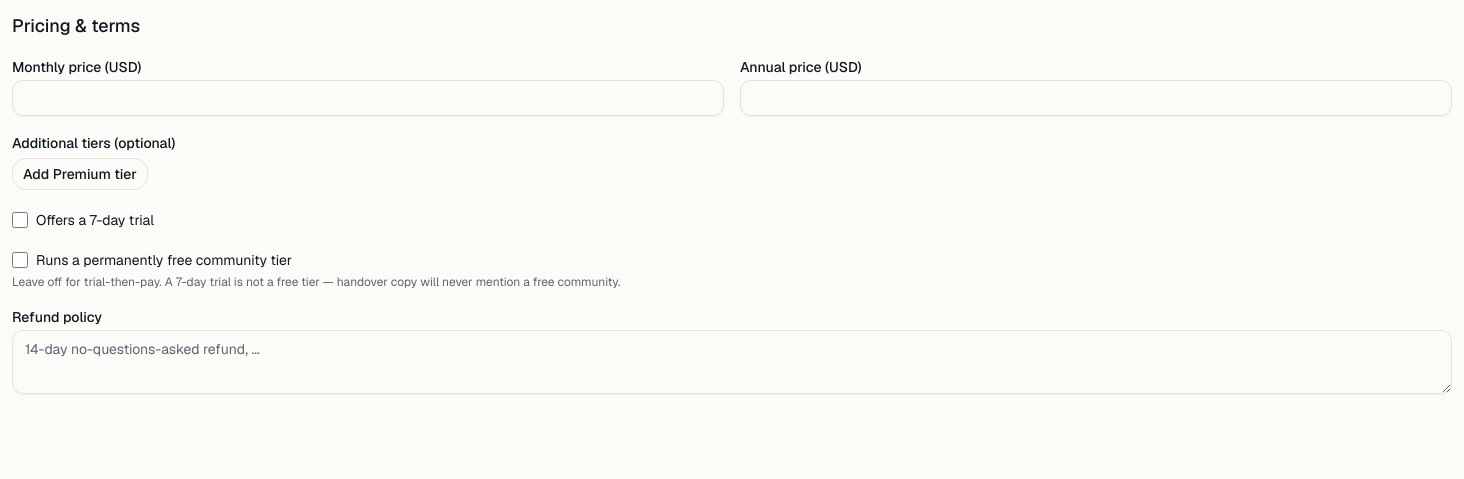
Test: Step3Pricing — additional tiers › clicking 'Add VIP tier' surfaces a second locked row and hides the Add button at the cap of 2
Step 1. Click the button "Add Premium tier" → (80, 174), box [12, 158, 148, 190]
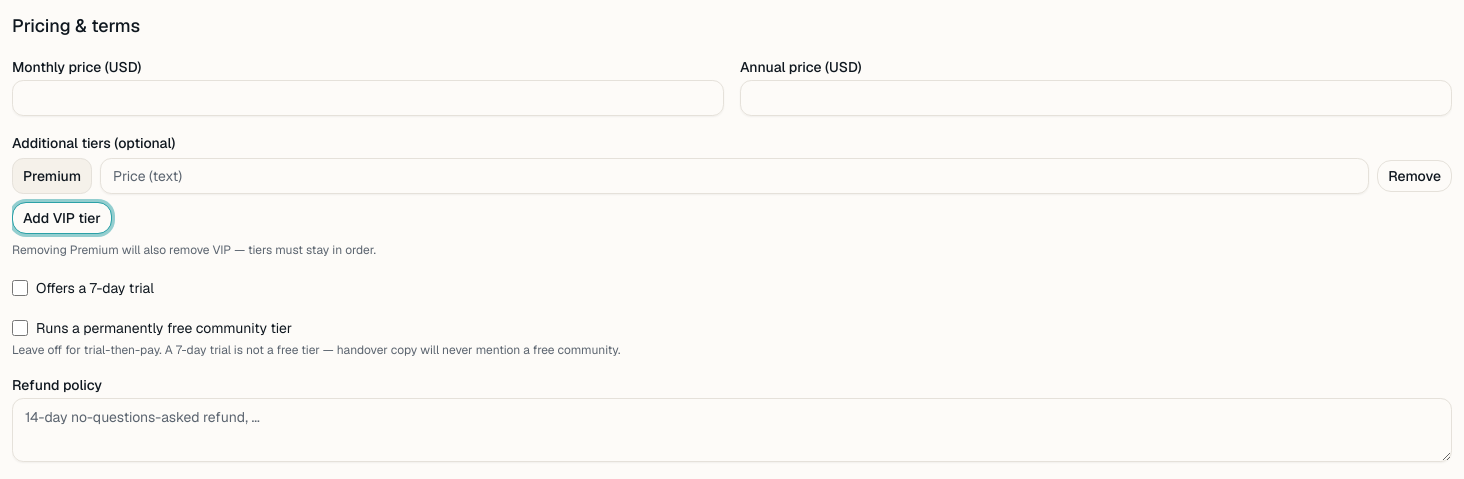
Step 2. Click the button "Add VIP tier" → (62, 218), box [12, 202, 112, 234]
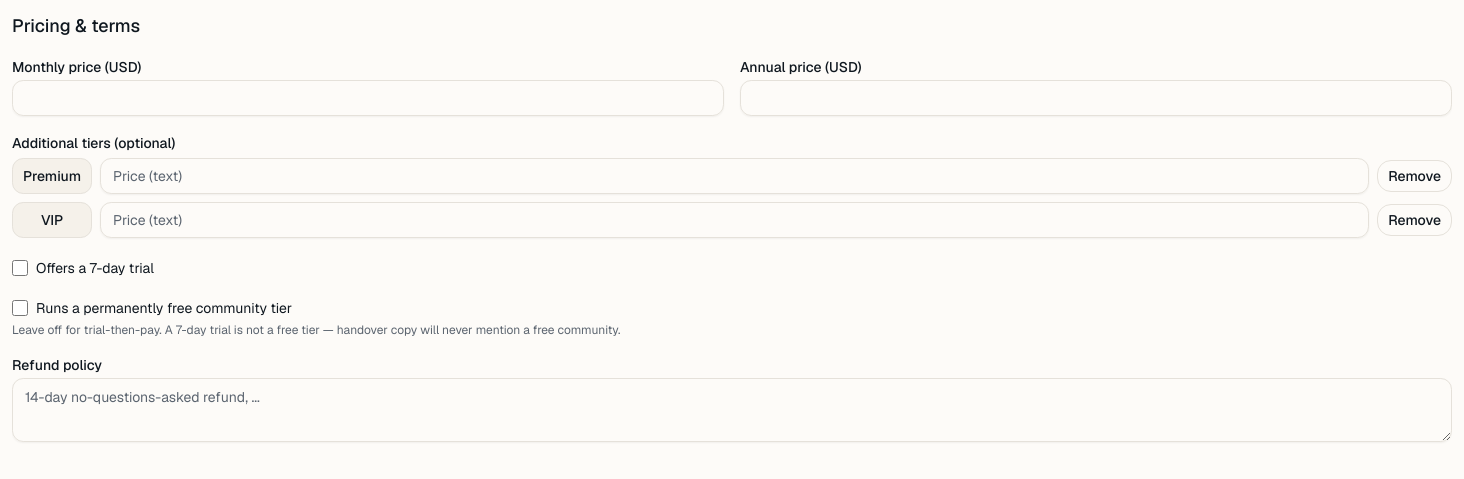
Expected: the text named "Premium tier" is shown, [12, 158, 92, 194]
Result: the text named "VIP tier" is shown at [12, 202, 92, 238]
Result: the button "Add VIP tier" is gone
